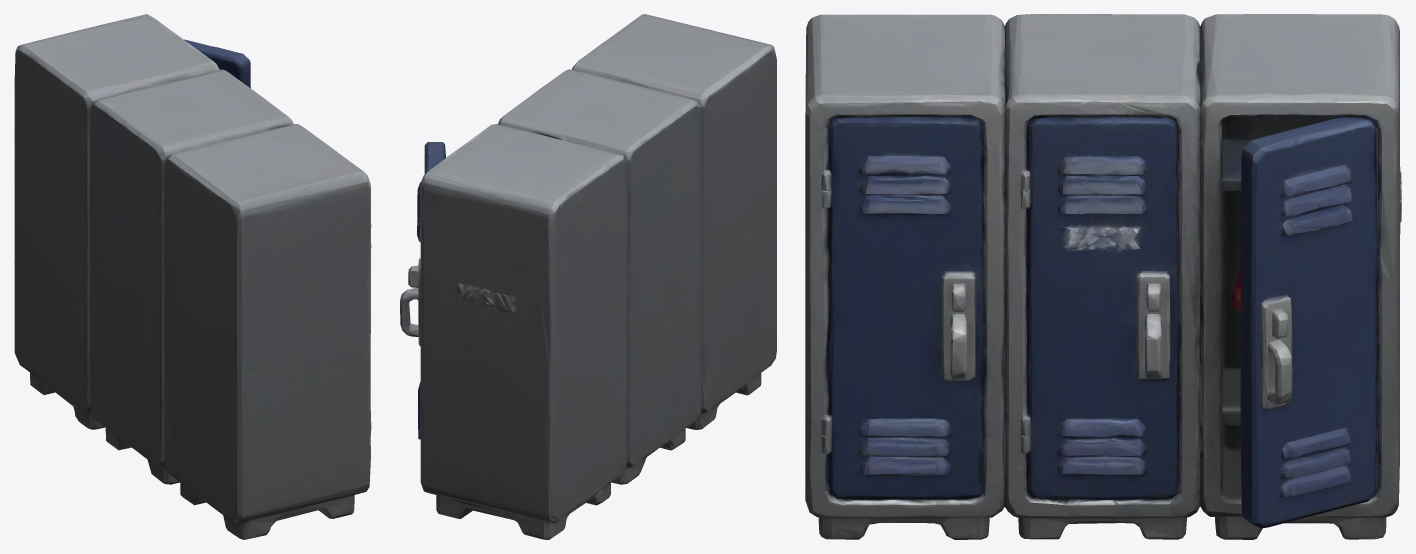
Rendered from lockers-t1.glb.
3 renders of one model, left to right at view 1: azimuth 30°, elevation 25°; view 2: azimuth 150°, elevation 25°; view 3: azimuth 270°, elevation 25°, orthographic. The views are drawn at different scales.
Parts seen in each view (by area): view 1: lockers-t1; view 2: lockers-t1; view 3: lockers-t1.
Boxes of the visible parts, <box> form: lockers-t1: <box>14,14,371,539</box>; lockers-t1: <box>400,14,776,539</box>; lockers-t1: <box>805,14,1401,539</box>.
Size of the model in its own units: 1.15 by 1.9 by 2.28.
1 material, 1 textured.
